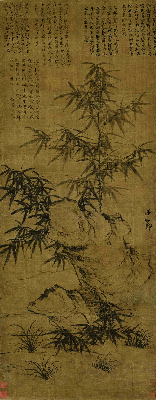bamboo: (42, 62, 149, 199), (1, 159, 53, 269)
bird: (99, 209, 143, 251)
grass: (10, 321, 154, 376)
hill: (43, 199, 148, 321)
